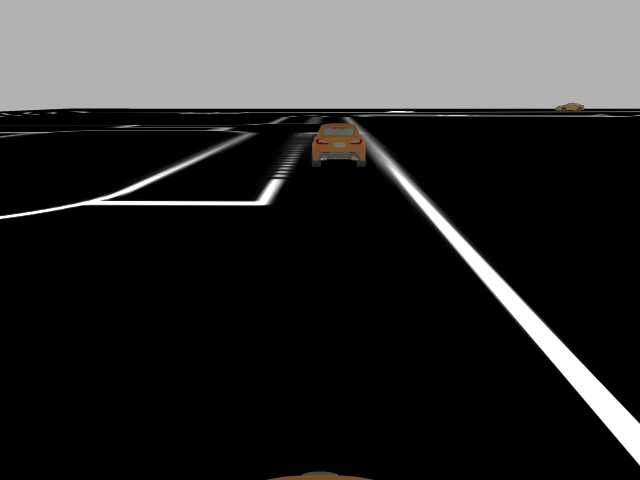obstacle_car: (309, 122, 368, 169)
